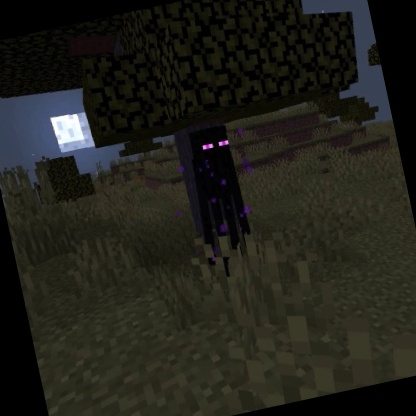enderman: (178, 120, 262, 283)
